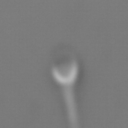normal: (54, 84, 84, 128)
